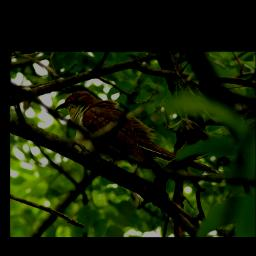Cuckoo: (54, 89, 221, 176)
